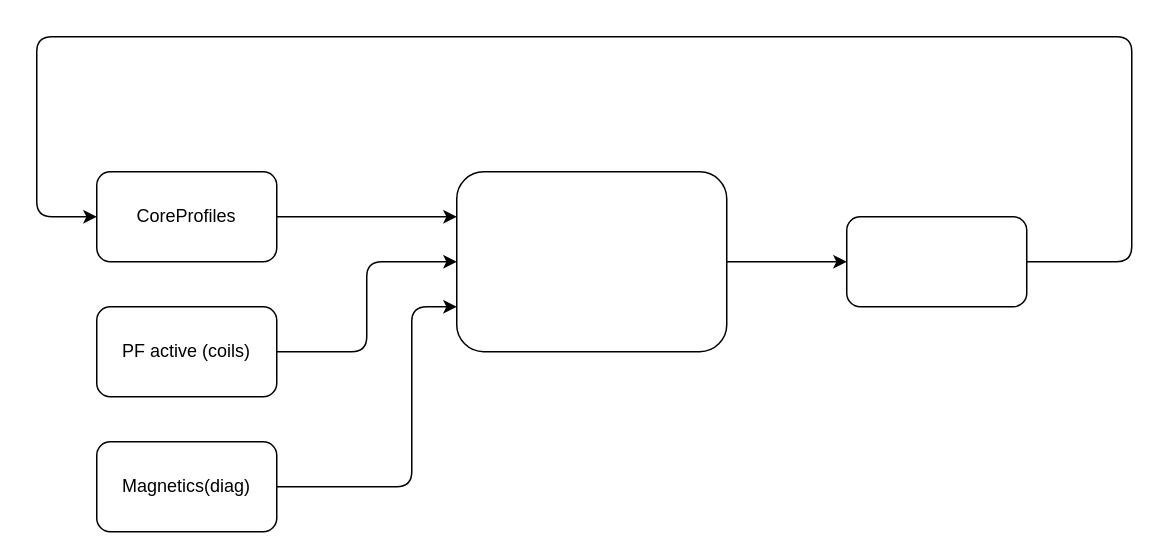
The diagram is 1170 pixels wide and 558 high, and some of its shapes have lost their labels. The shapes that lost their labels are listed below. From the top down, each one's centre as x and y in pixels, then its label:
the point at 591,261: Equilibrium
the point at 936,261: Transport Solver
